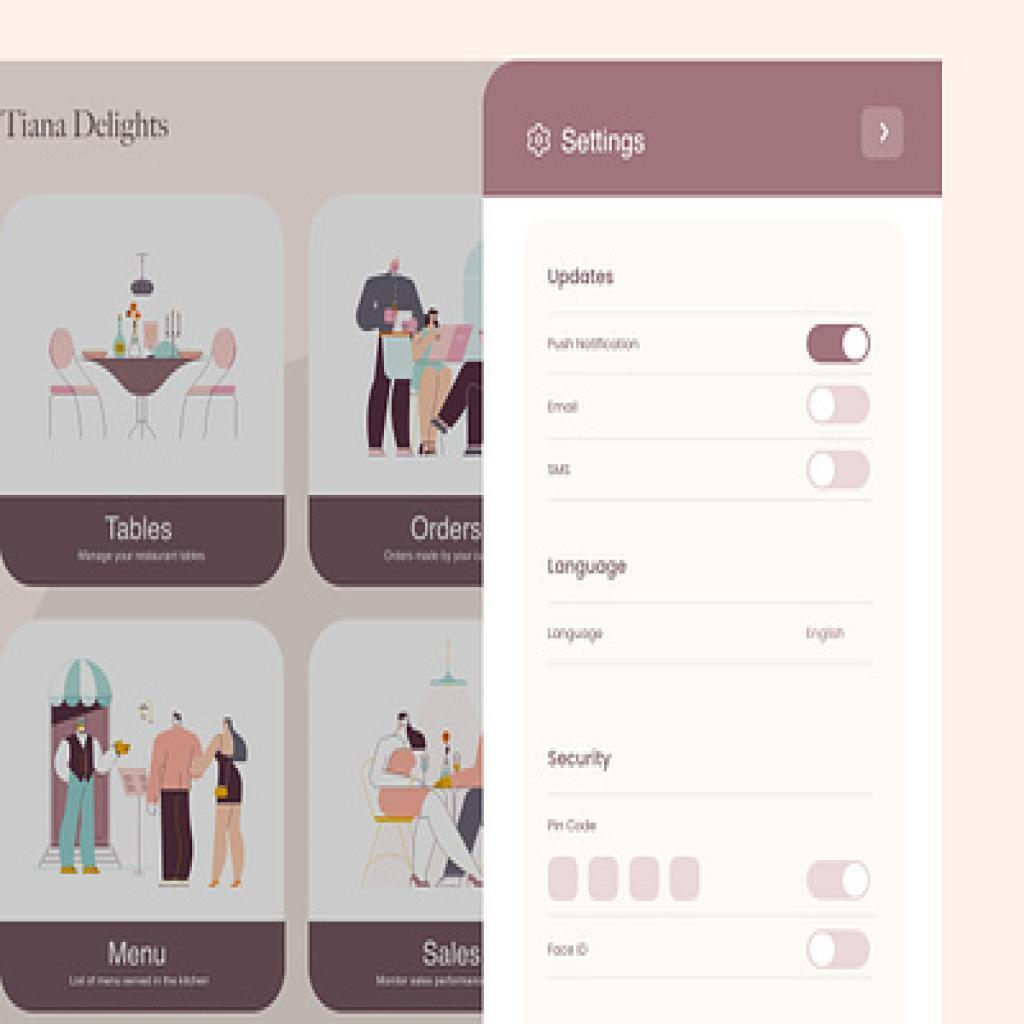icon: (864, 110, 906, 162), (521, 117, 558, 164)
radio: (627, 859, 663, 905), (587, 856, 622, 902), (548, 857, 583, 902), (667, 857, 701, 902)
switch: (809, 383, 874, 428), (807, 929, 871, 973), (806, 861, 873, 903), (808, 324, 872, 367), (808, 450, 873, 492)
